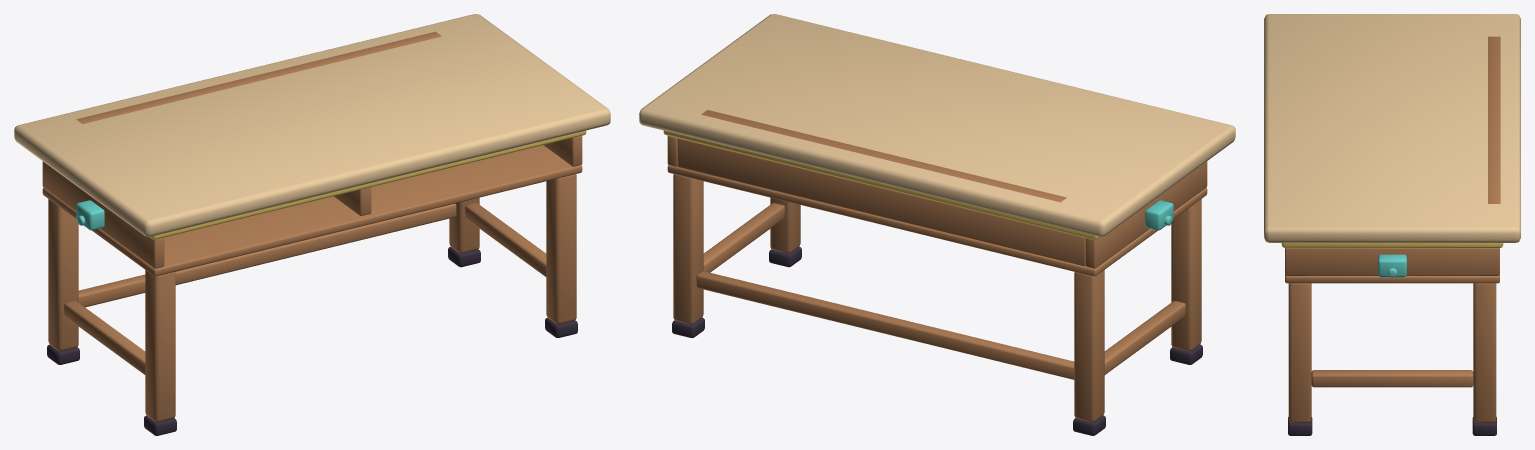
The model's file is student-desk.glb.
3 renders of one model, left to right at view 1: azimuth 30°, elevation 25°; view 2: azimuth 150°, elevation 25°; view 3: azimuth 270°, elevation 25°, orthographic. The views are drawn at different scales.
Parts seen in each view (by area): view 1: FurnStudentDesk_Top, FurnStudentDesk_Frame, FurnStudentDesk_Accent, FurnStudentDesk_Glides, FurnStudentDesk_Hooks; view 2: FurnStudentDesk_Top, FurnStudentDesk_Frame, FurnStudentDesk_Accent, FurnStudentDesk_Glides, FurnStudentDesk_Hooks; view 3: FurnStudentDesk_Top, FurnStudentDesk_Frame, FurnStudentDesk_Accent, FurnStudentDesk_Glides, FurnStudentDesk_Hooks.
Boxes of the visible parts, bbox=[...] form: FurnStudentDesk_Top: bbox=[14, 14, 610, 236]; FurnStudentDesk_Frame: bbox=[42, 31, 582, 422]; FurnStudentDesk_Accent: bbox=[150, 130, 586, 239]; FurnStudentDesk_Glides: bbox=[47, 247, 577, 435]; FurnStudentDesk_Hooks: bbox=[76, 200, 104, 230]; FurnStudentDesk_Top: bbox=[639, 14, 1235, 236]; FurnStudentDesk_Frame: bbox=[667, 110, 1207, 422]; FurnStudentDesk_Accent: bbox=[663, 130, 1099, 239]; FurnStudentDesk_Glides: bbox=[672, 247, 1202, 435]; FurnStudentDesk_Hooks: bbox=[1145, 200, 1173, 230]; FurnStudentDesk_Top: bbox=[1264, 14, 1520, 242]; FurnStudentDesk_Frame: bbox=[1285, 36, 1500, 422]; FurnStudentDesk_Accent: bbox=[1281, 243, 1503, 247]; FurnStudentDesk_Glides: bbox=[1288, 417, 1496, 435]; FurnStudentDesk_Hooks: bbox=[1378, 254, 1406, 277].
Bounding box in the file's own units: 1.6 × 0.75 × 0.8.
